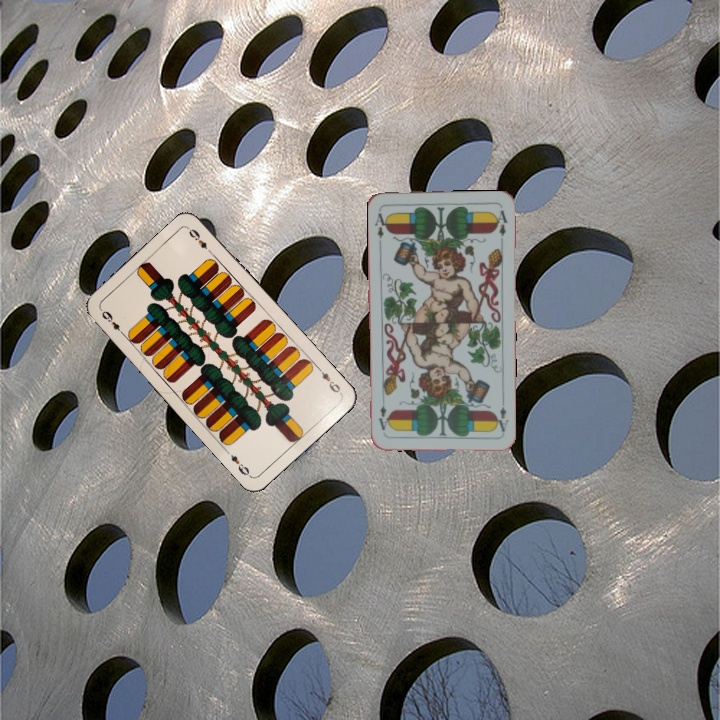E9: (313, 363, 344, 397), (97, 306, 127, 339)
EA: (371, 206, 390, 241), (492, 403, 511, 434)
